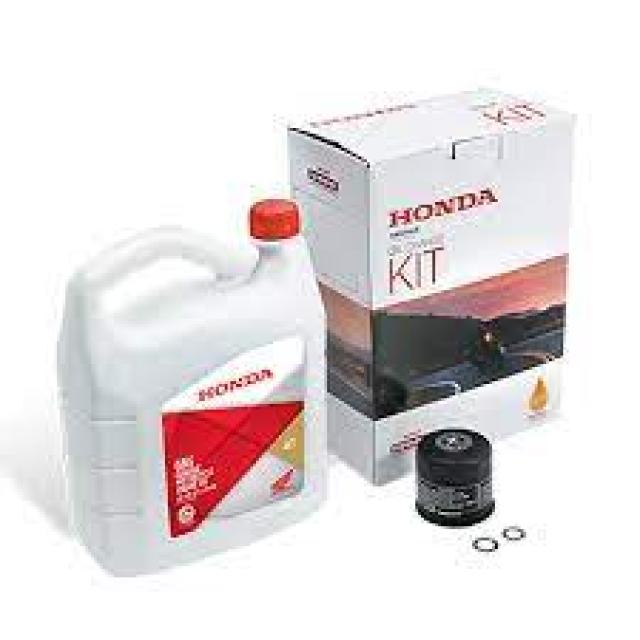motor_oil: (62, 193, 315, 585)
oil_filter: (415, 422, 499, 530)
